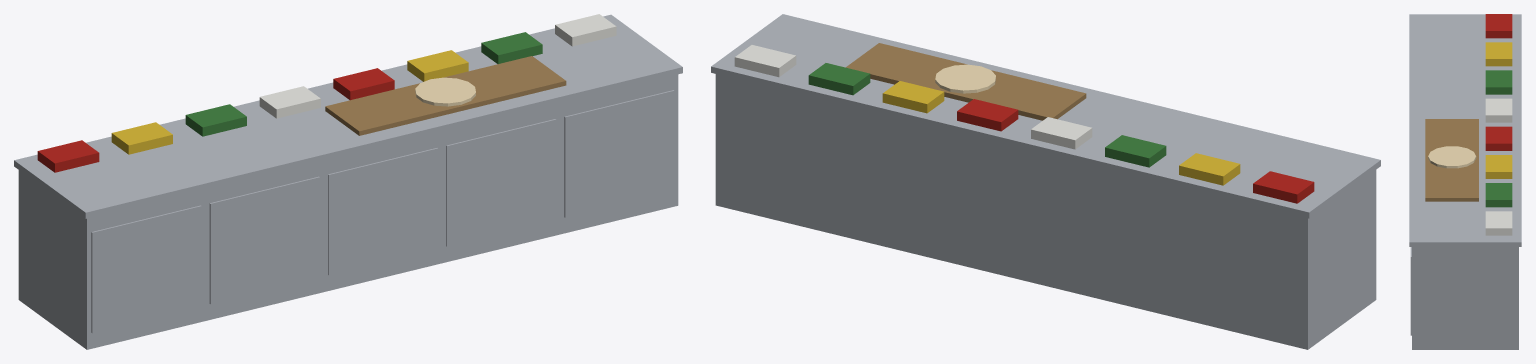
File: prep table.glb
3 renders of one model, left to right at view 1: azimuth 30°, elevation 25°; view 2: azimuth 150°, elevation 25°; view 3: azimuth 270°, elevation 25°, orthographic. The views are drawn at different scales.
Parts seen in each view (by area): view 1: prep table; view 2: prep table; view 3: prep table.
Part boxes in pixels (left/top/right/bottom): prep table: left=14, top=14, right=682, bottom=349; prep table: left=711, top=14, right=1380, bottom=349; prep table: left=1409, top=14, right=1521, bottom=349.
Size of the model in its own units: 4.04 by 0.96 by 0.84.
